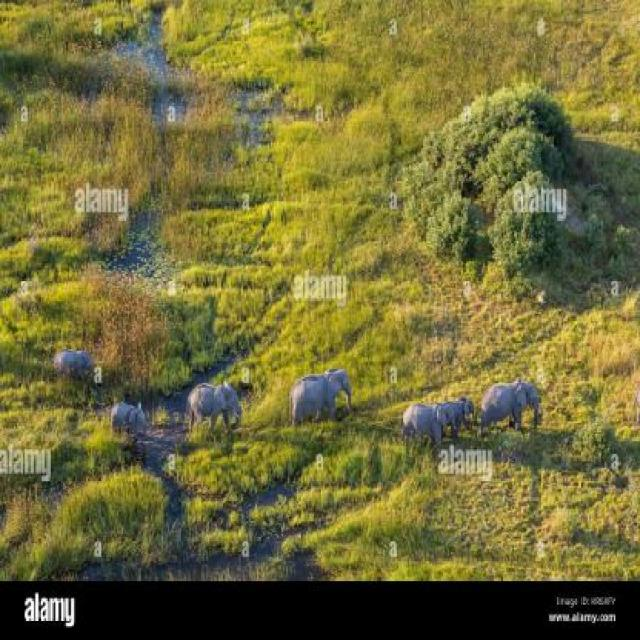elephant: (174, 369, 254, 434), (272, 367, 362, 424), (480, 367, 555, 427), (101, 400, 154, 455), (388, 400, 440, 455), (53, 348, 110, 392), (432, 383, 479, 423)
